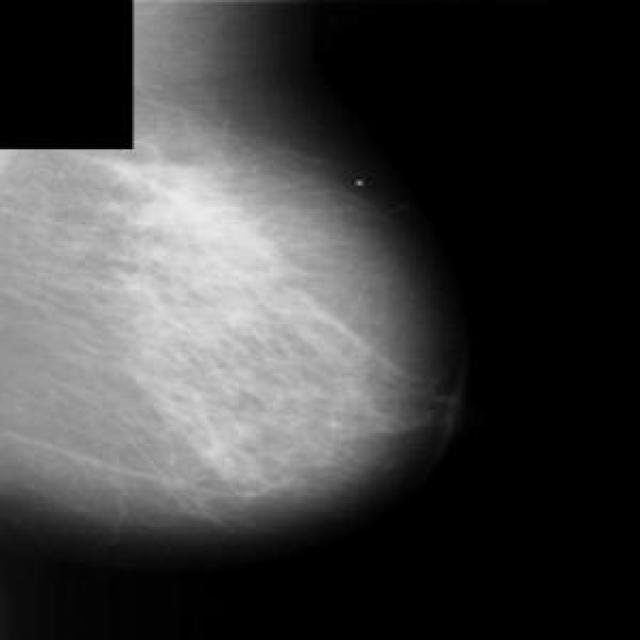tumor: (114, 174, 321, 438)
